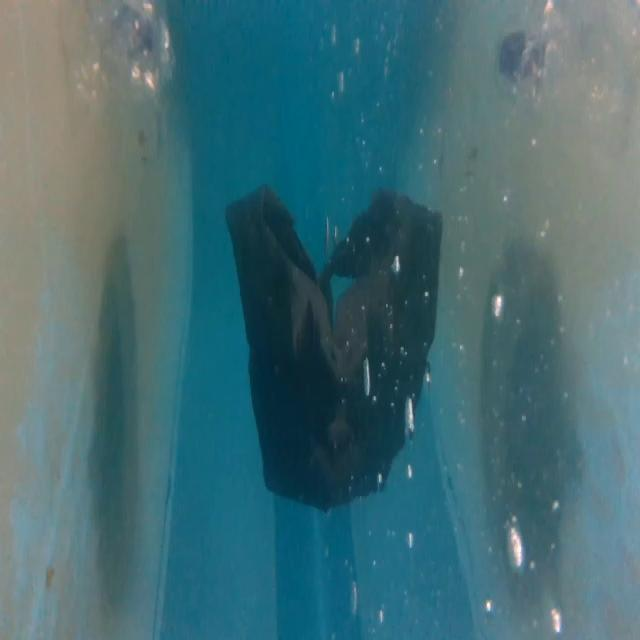plastic bags: (221, 175, 448, 520)
